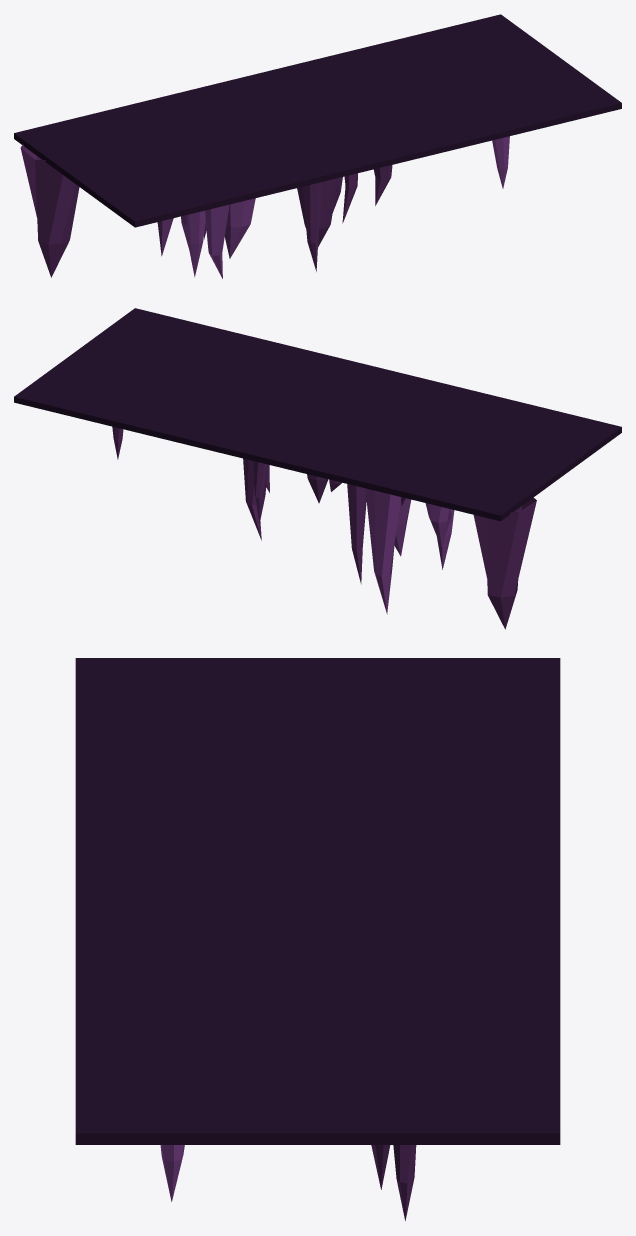
The model's file is W4_Mid_Stalactites.fbx.
The picture shows the model from 3 angles, top to bottom: view 1: azimuth 30°, elevation 25°; view 2: azimuth 150°, elevation 25°; view 3: azimuth 270°, elevation 25°; orthographic projection. The views are drawn at different scales.
Parts seen in each view (by area): view 1: W4_Mid_Stalactites; view 2: W4_Mid_Stalactites; view 3: W4_Mid_Stalactites.
Part boxes in pixels (left/top/right/bottom): W4_Mid_Stalactites: left=14, top=14, right=621, bottom=278; W4_Mid_Stalactites: left=14, top=308, right=621, bottom=629; W4_Mid_Stalactites: left=75, top=658, right=560, bottom=1220.
Bounding box in the file's own units: 132 × 36.62 × 56.
